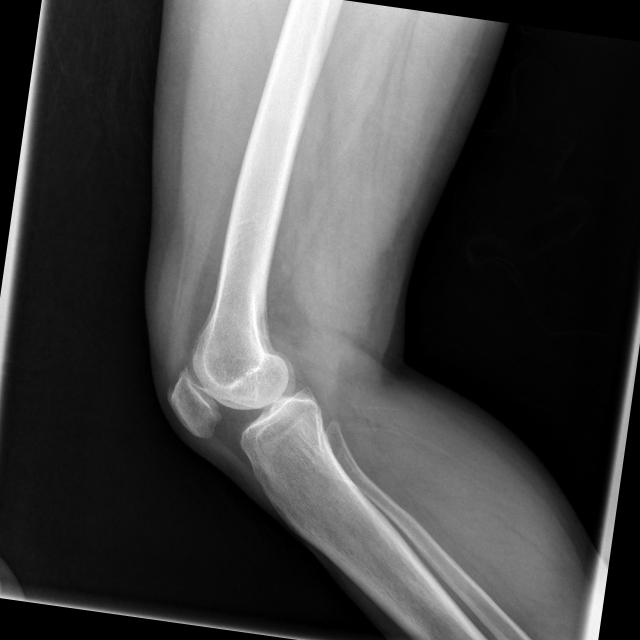Knee: (159, 326, 344, 490)
